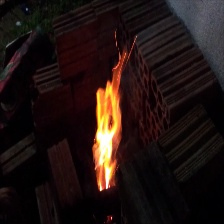fire: (85, 49, 131, 197)
